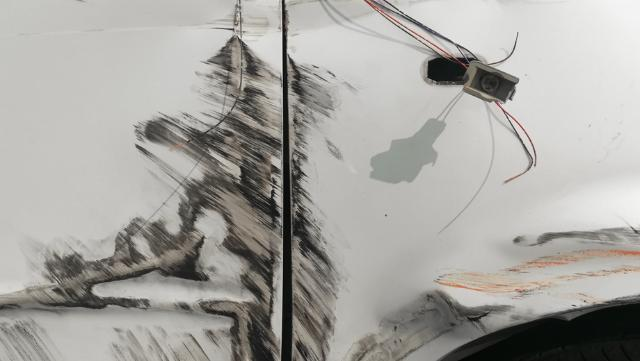Door: (0, 0, 280, 361)
Fender: (286, 0, 640, 333)
